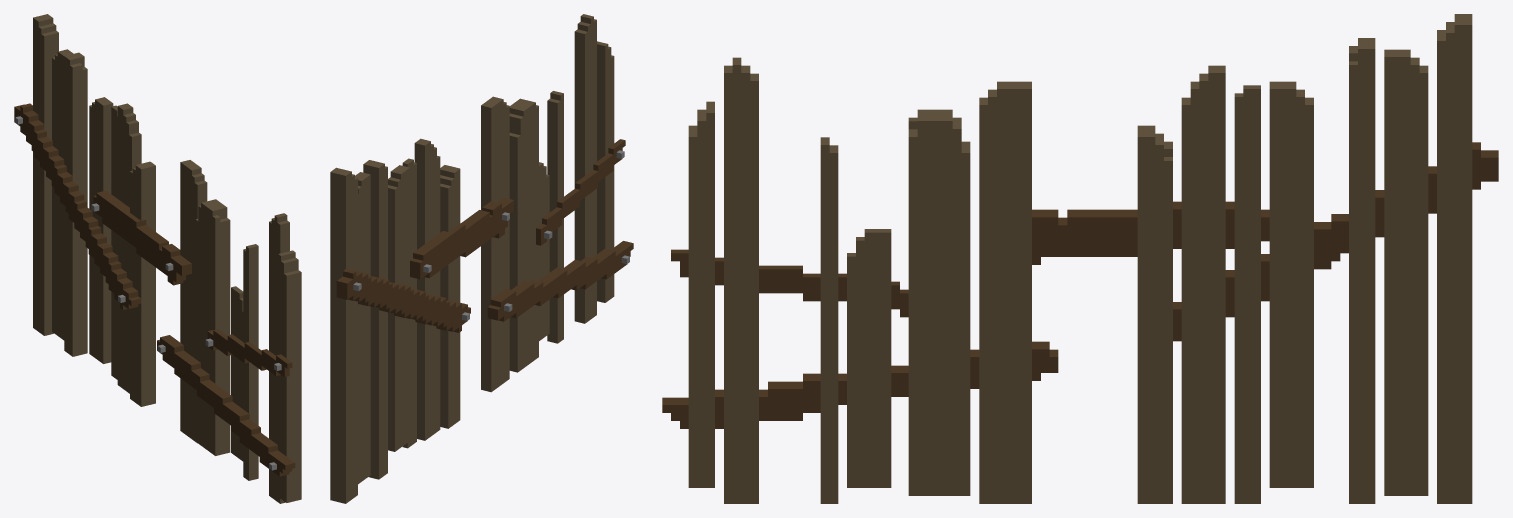
File: Background_A_door_01.FBX
3 renders of one model, left to right at view 1: azimuth 30°, elevation 25°; view 2: azimuth 150°, elevation 25°; view 3: azimuth 270°, elevation 25°, orthographic. The views are drawn at different scales.
Parts seen in each view (by area): view 1: Load_A-23; view 2: Load_A-23; view 3: Load_A-23.
Part boxes in pixels (<box>): Load_A-23: <box>14,14,301,503</box>; Load_A-23: <box>330,14,633,503</box>; Load_A-23: <box>662,14,1498,503</box>.
Size of the model in its own units: 0.6 by 6 by 9.5.
Materials: 1 (1 with a texture image).
